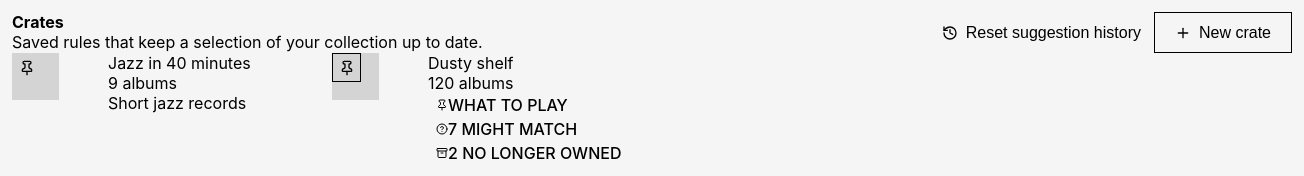
CratesPage › list › pins a crate to What to Play
The image size is (1304, 176).
Click the button named "Pin Jazz in 40 minutes to What to Play" at (27, 68), box [12,53,41,82]
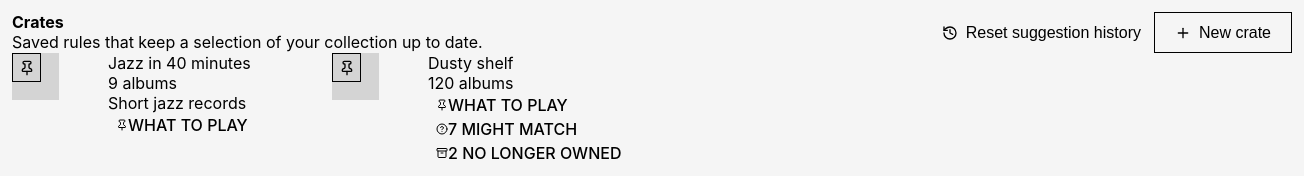
Check: the button named "Unpin Jazz in 40 minutes from What to Play" is shown, box [12,53,41,82]
